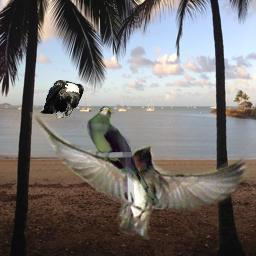Crow: (39, 79, 84, 119)
Cuckoo: (87, 106, 165, 207)
Swallow: (30, 112, 251, 244)
